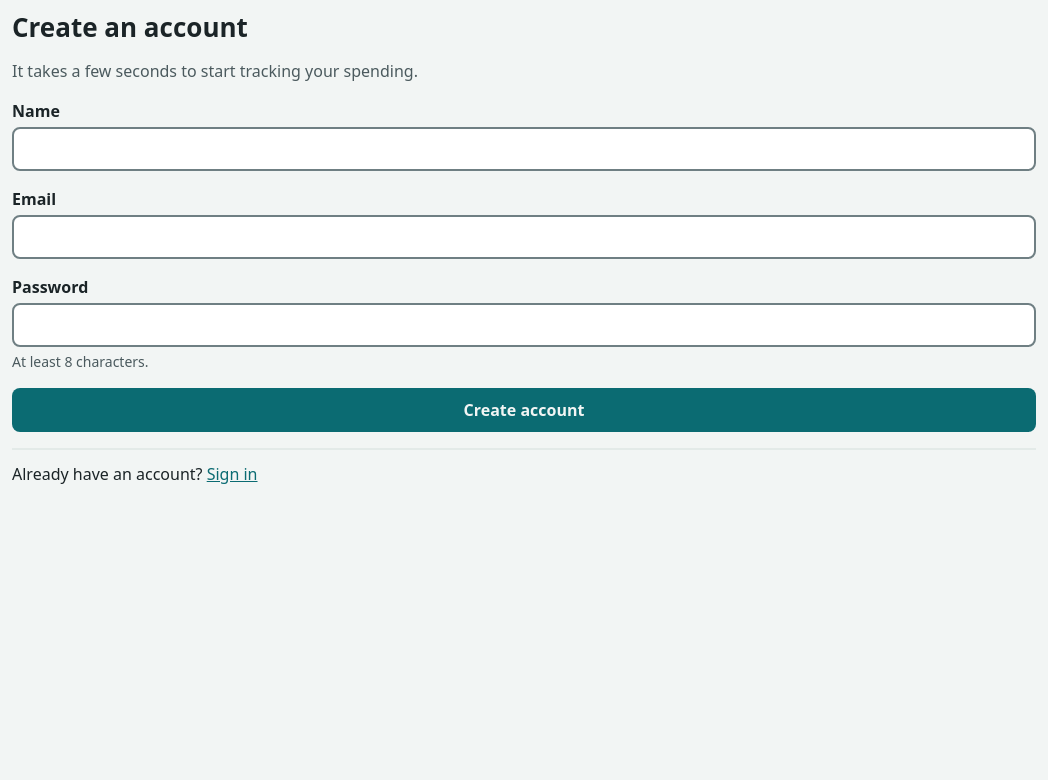
Scenario: RegisterView › shows the server problem and stays on the page
The image size is (1048, 780).
In the field labelled "Name": (524, 149) 12,127 -> 1036,171, type "Ada"
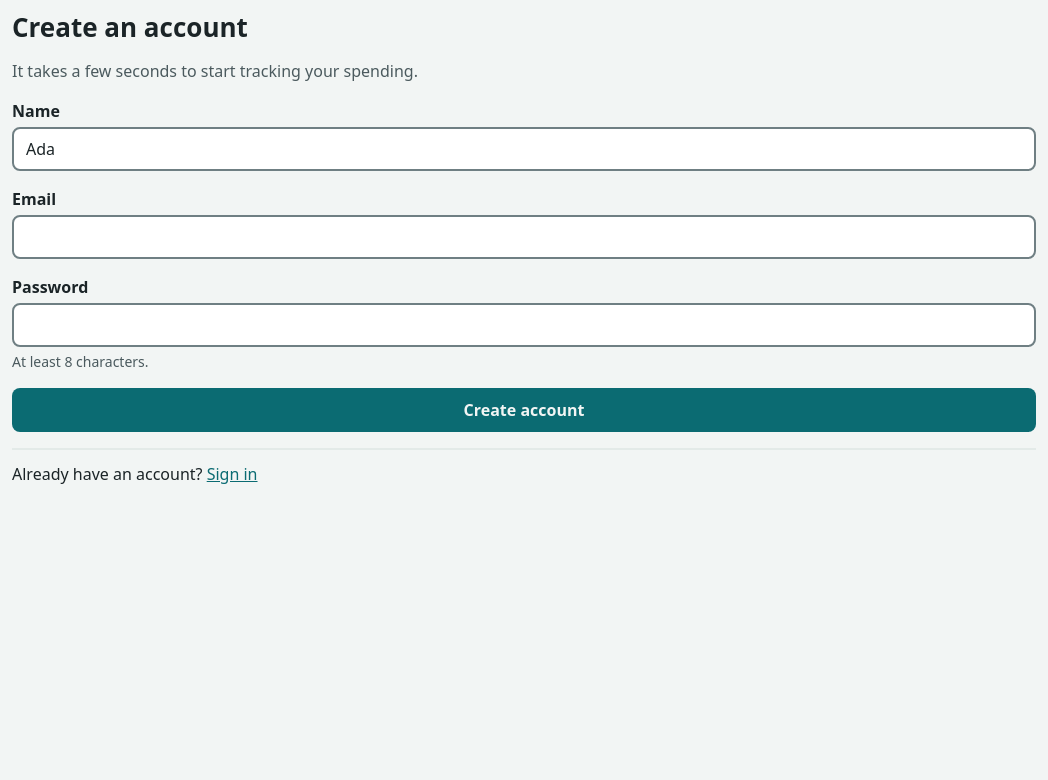
In the field labelled "Email": (524, 237) 12,215 -> 1036,259, type "ada@example.com"
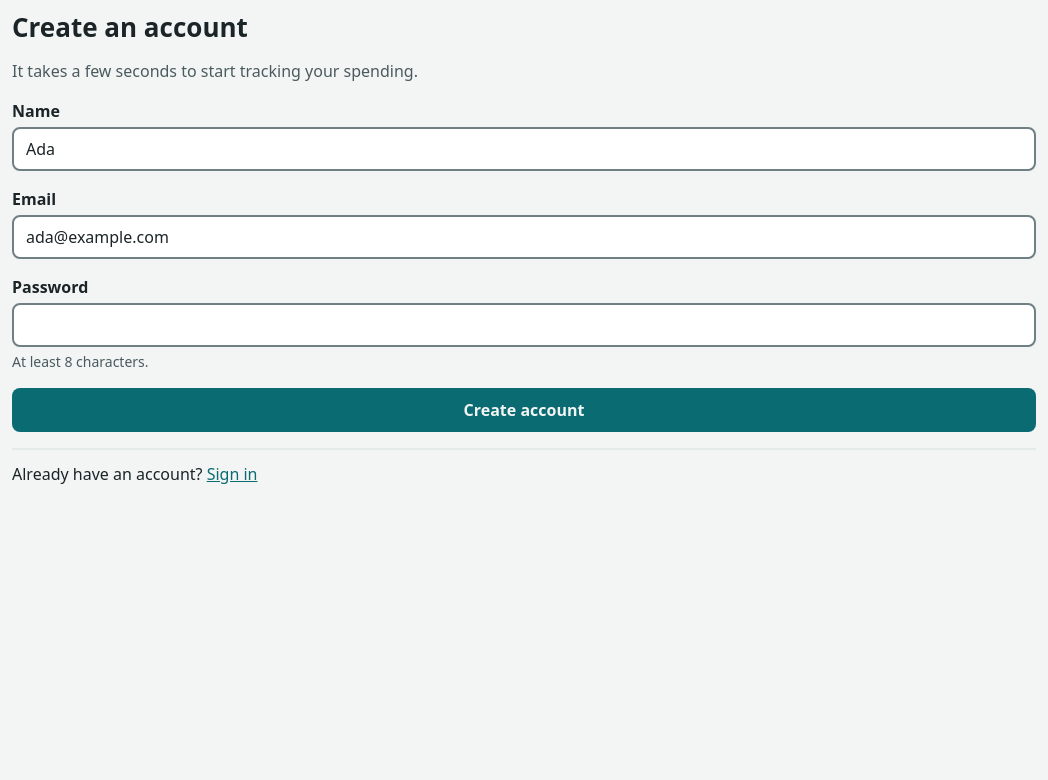
In the password field labelled "Password": (524, 325) 12,303 -> 1036,347, type "password1"
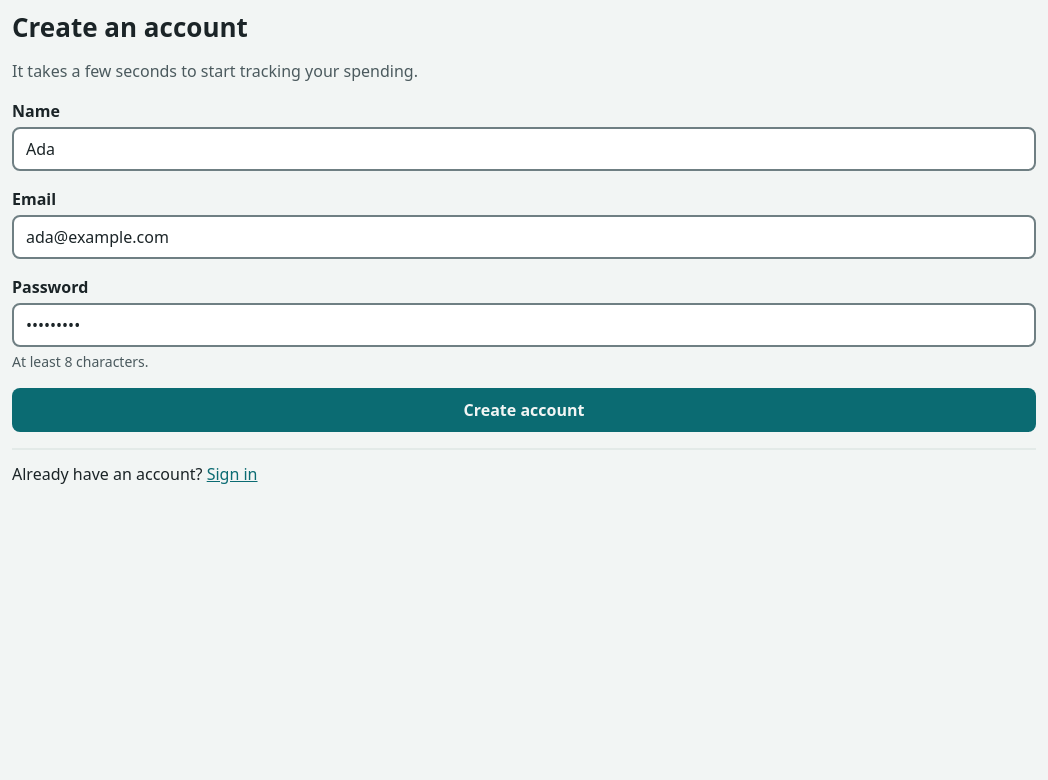
Submit the form, box 12,99 -> 1036,432
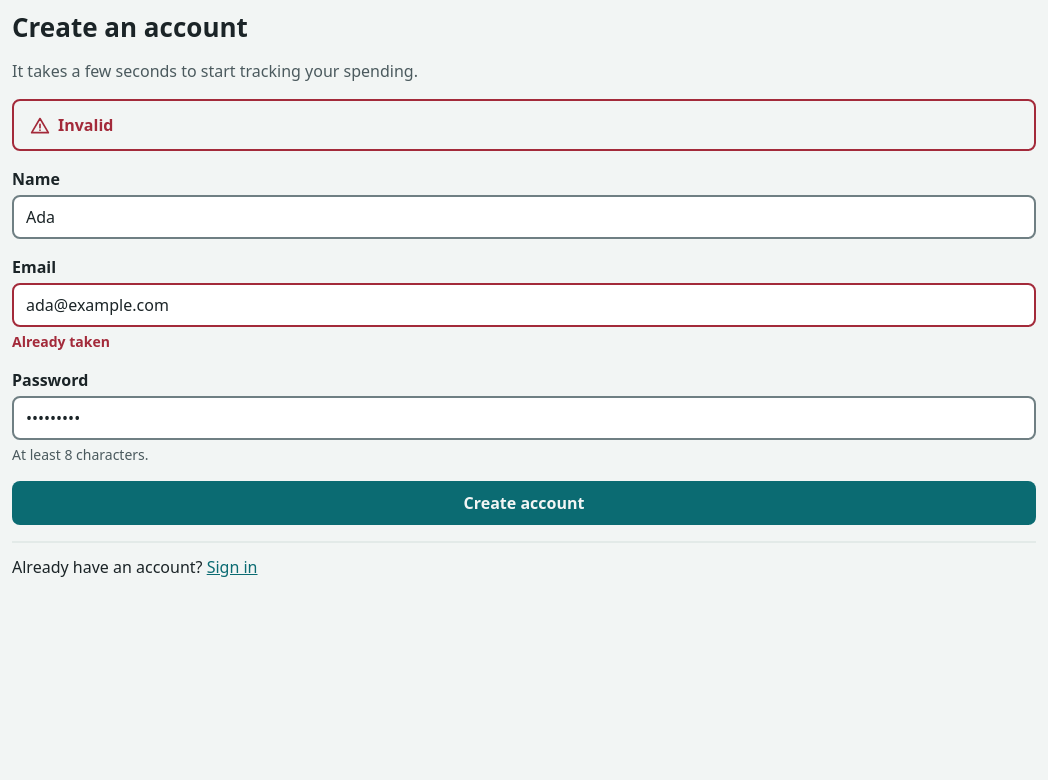
expect the text "Already taken" is shown: met, box 12,332 -> 110,351
